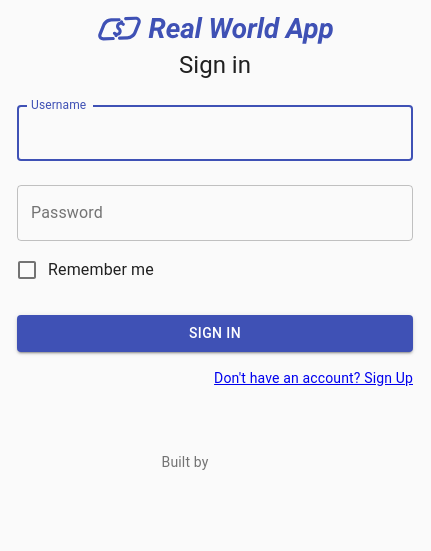
Registration and Login spec › should see log in error on invalid credentials
In the field with id "username": [215, 133] box [17, 105, 413, 161], type "invalid_username"
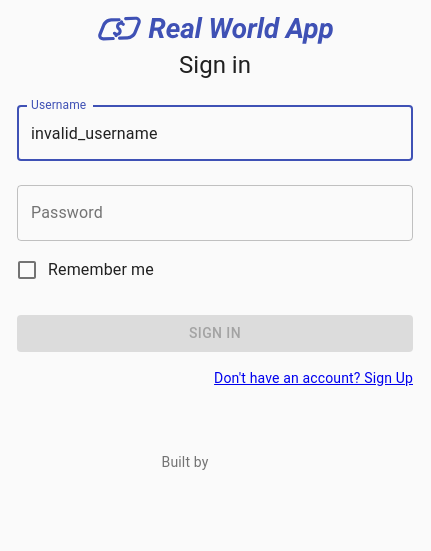
In the password field labelled "Password": [215, 213] box [17, 185, 413, 241], type "invalid_password"
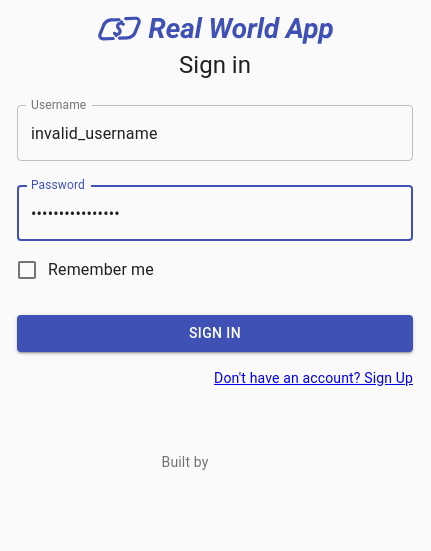
Click the button with test id "signin-submit": [215, 334] box [17, 315, 413, 352]
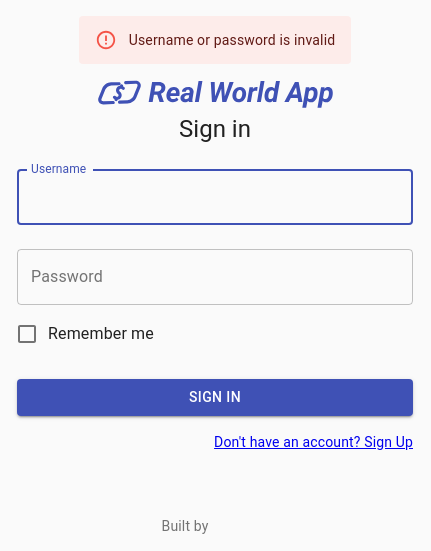
Check: the text "Username or password is invalid" is shown, box [129, 32, 335, 48]
